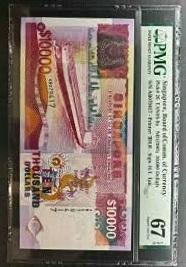10000SingaporeDollar: (21, 20, 130, 247)
